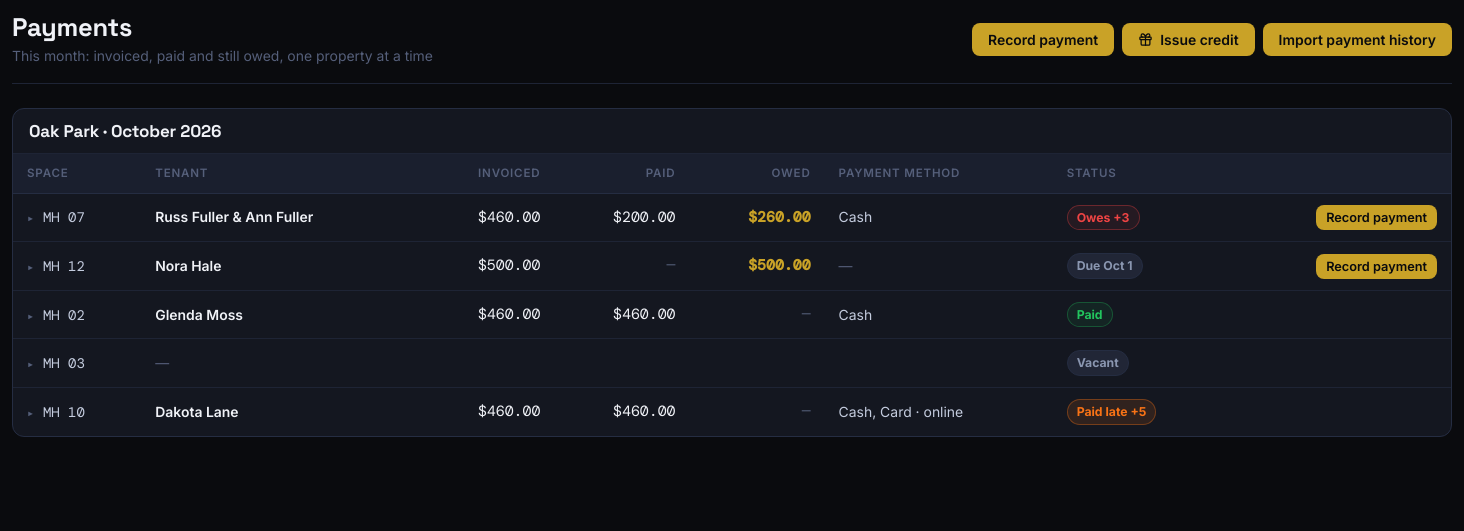
Test: one row per household, in the server’s order, every space › an empty space is a gray Vacant row in its spot, with no money — its number in line with the rest, and it opens to say nothing is billed
Click the row "▸ MH 03 — Vacant" at (732,363), box 13,339 -> 1451,388
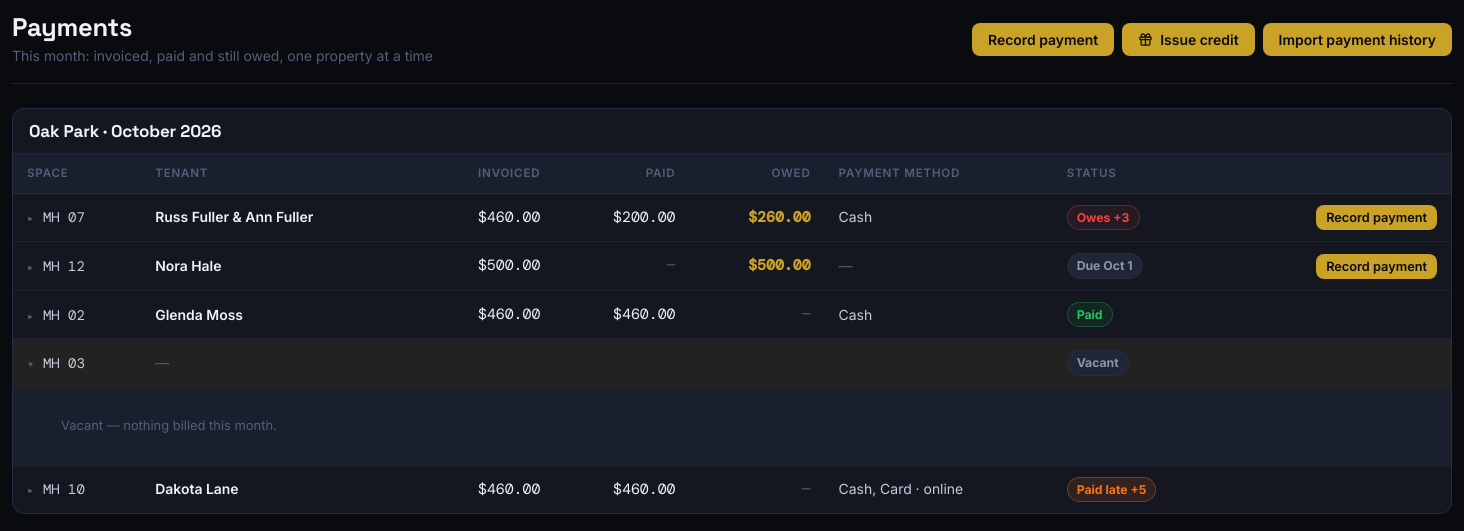
Expected: the cell "▾ MH 03" is shown, 13,339 -> 141,388
Expected: the element showing "Vacant — nothing billed this month." is shown, 61,417 -> 277,433
Click the row "▾ MH 03 — Vacant" at (732,363), box 13,339 -> 1451,388
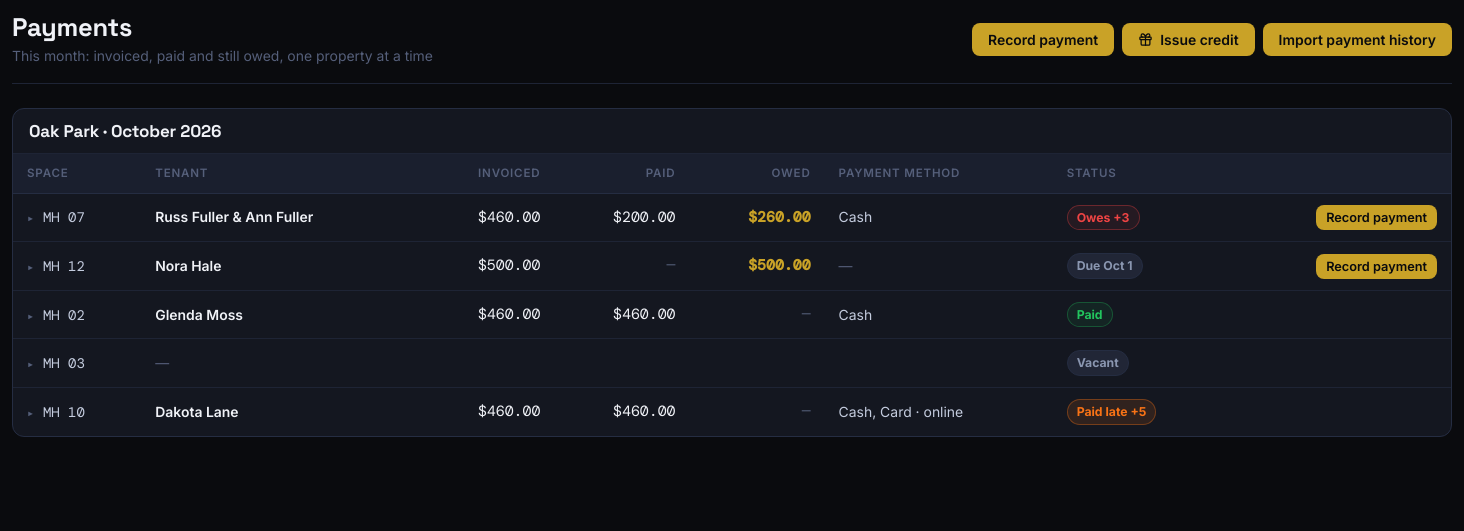
Expected: the row "Vacant — nothing billed this month." is gone
